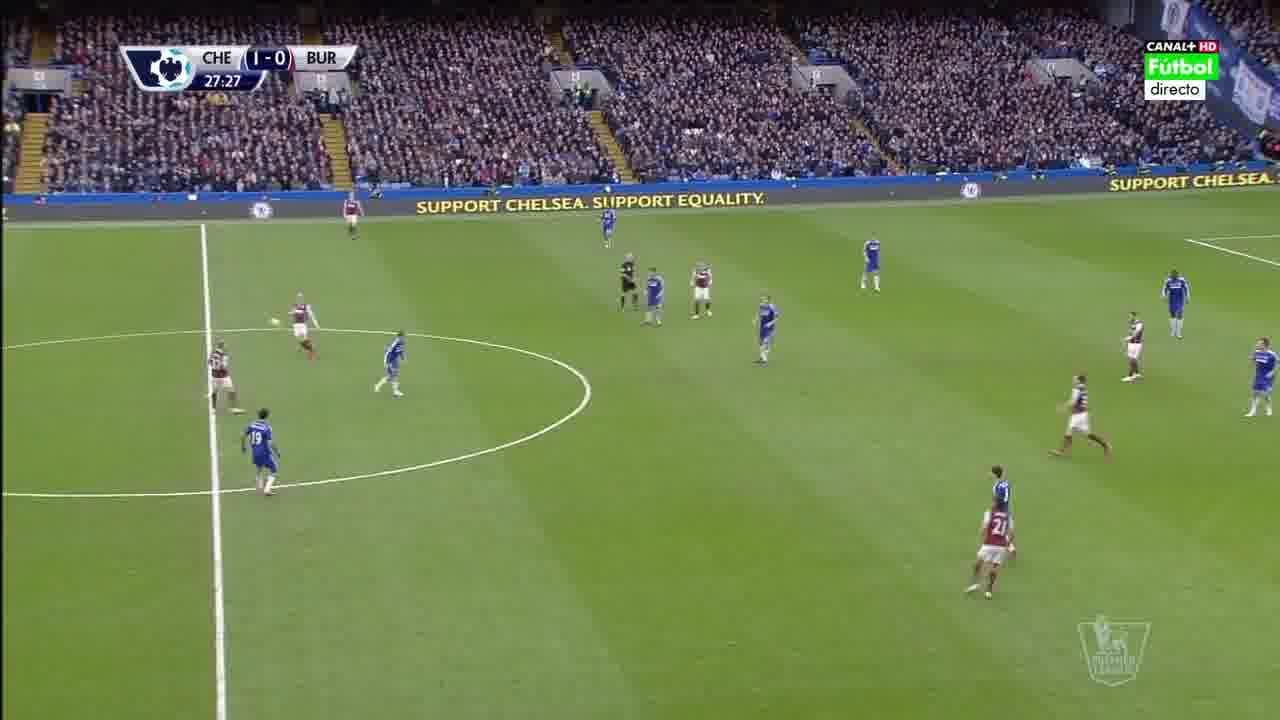football: (267, 316, 280, 327)
